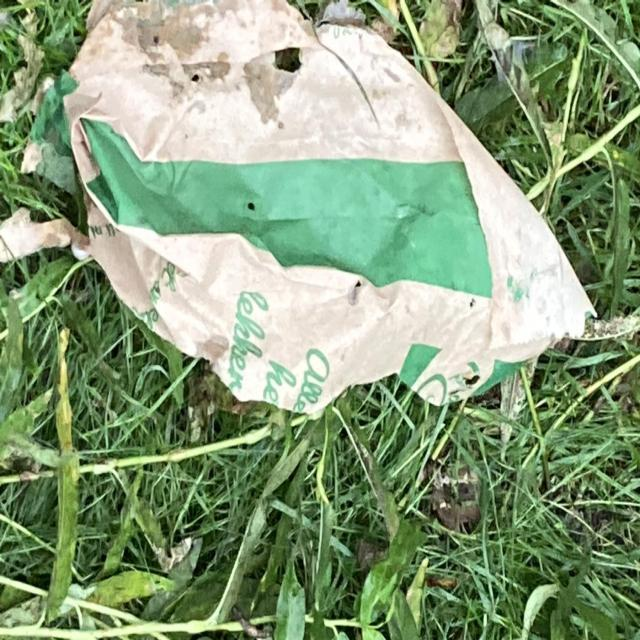Paper: (60, 0, 595, 419)
